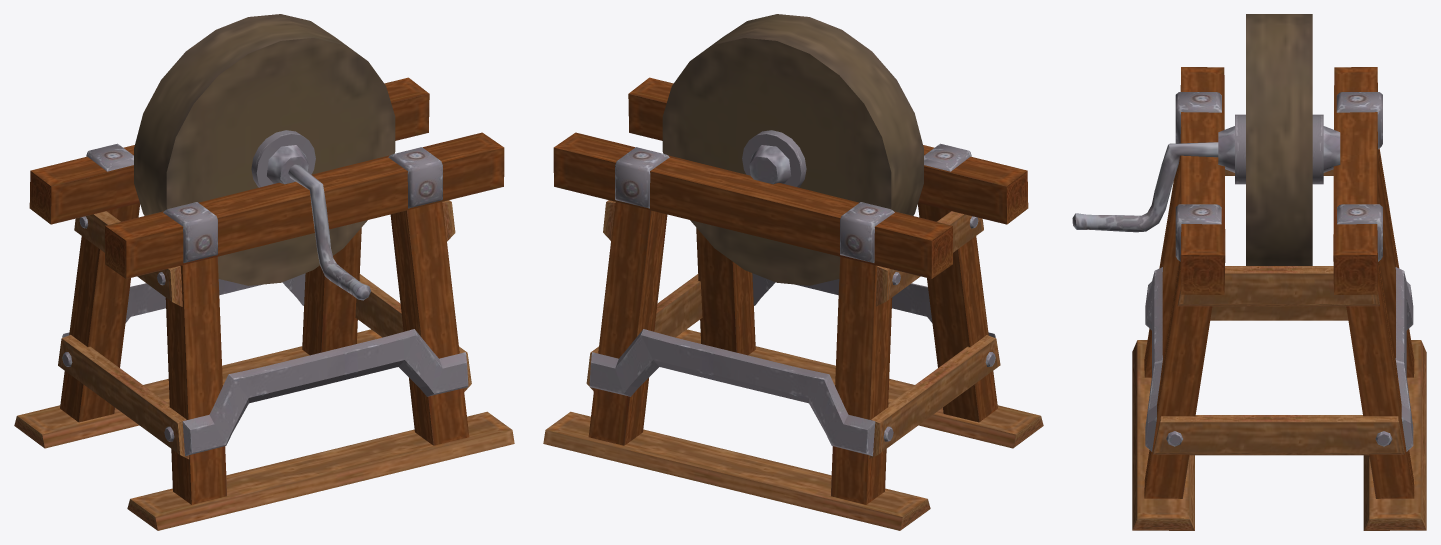
File: whetstone.glb
The picture shows the model from 3 angles, left to right: view 1: azimuth 30°, elevation 25°; view 2: azimuth 150°, elevation 25°; view 3: azimuth 270°, elevation 25°; orthographic projection. The views are drawn at different scales.
Parts seen in each view (by area): view 1: Whetstone; view 2: Whetstone; view 3: Whetstone.
Boxes of the visible parts, x1=… form: Whetstone: x1=14, y1=14, x2=514, y2=530; Whetstone: x1=543, y1=14, x2=1043, y2=530; Whetstone: x1=1072, y1=14, x2=1426, y2=530.
Size of the model in its own units: 1.14 by 1.17 by 0.9018.
3 materials, 3 textured.
